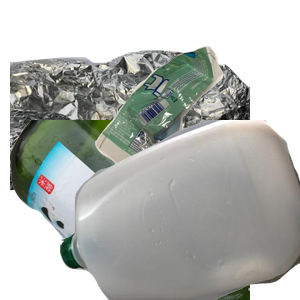glass: (10, 120, 250, 300)
metal: (10, 47, 250, 227)
plastic: (60, 120, 300, 300)
trash: (92, 44, 300, 211)
